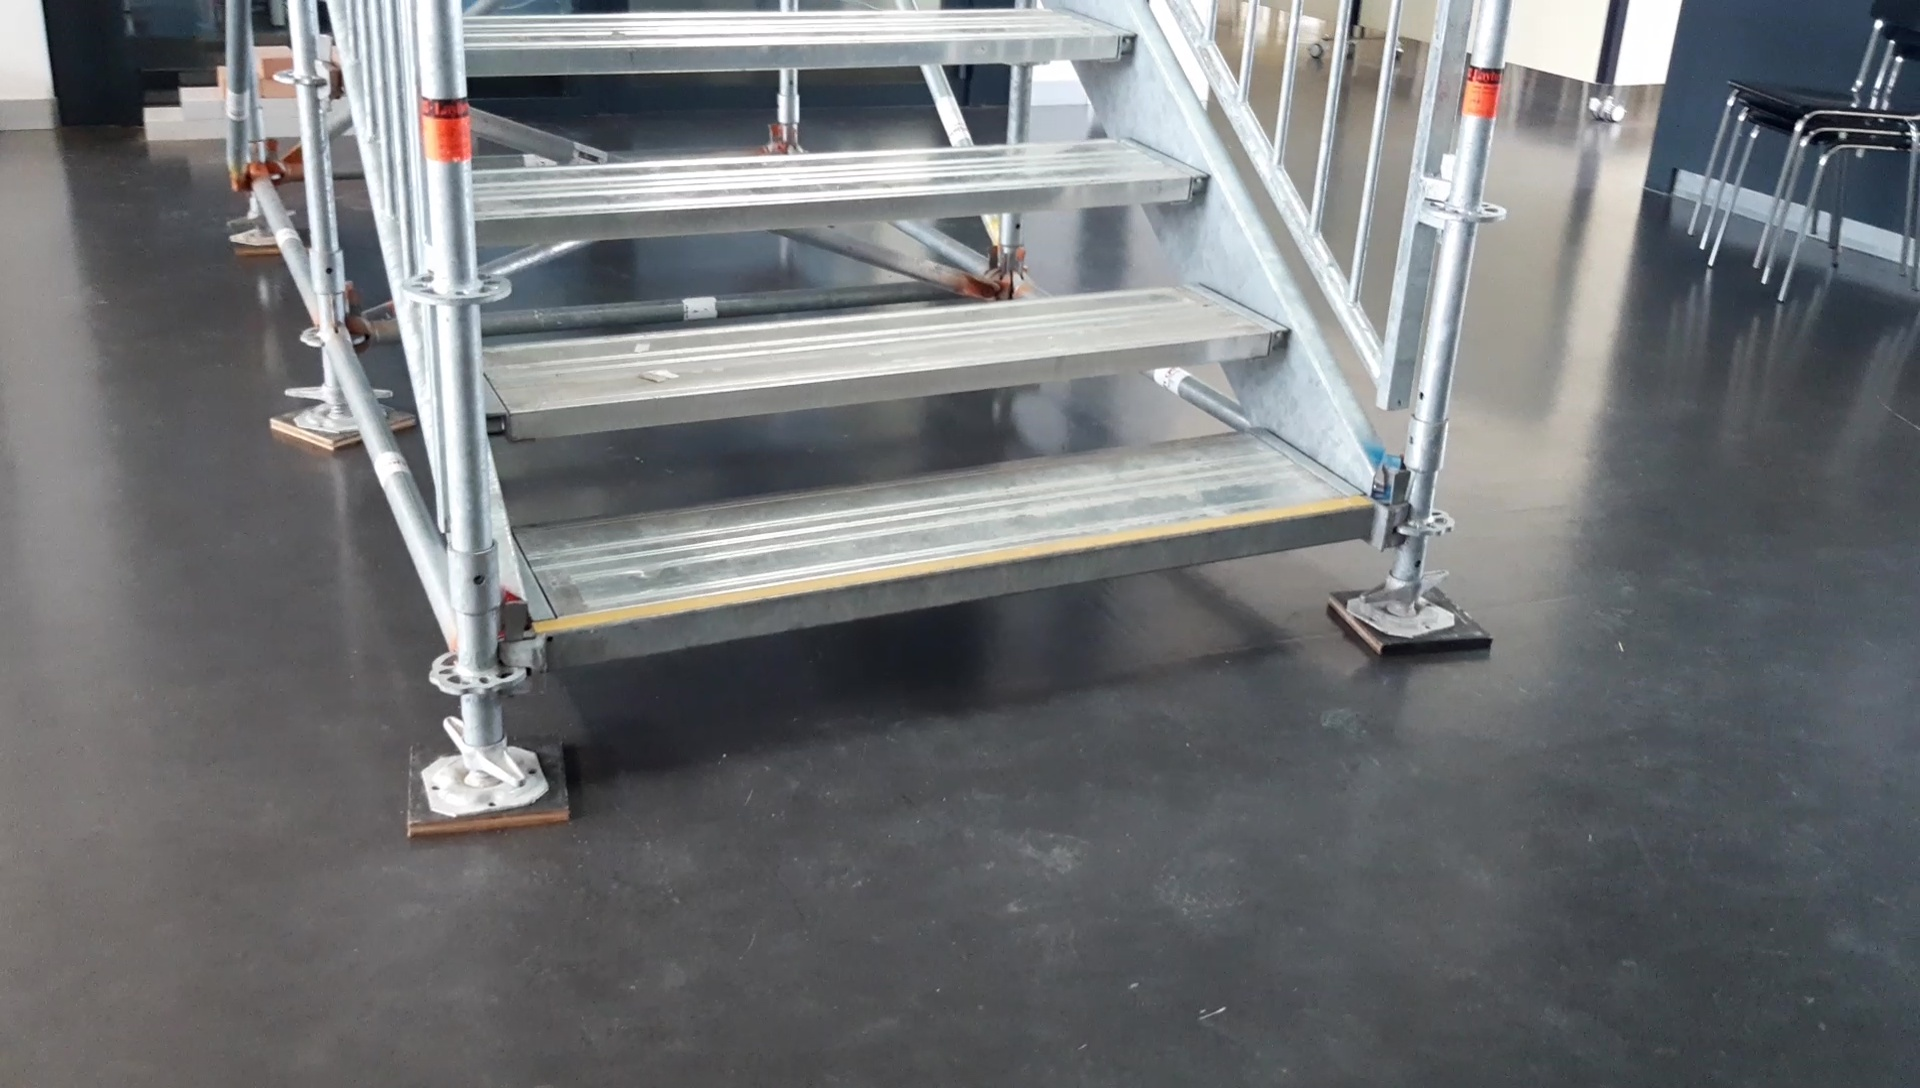edge: (550, 502, 1375, 662), (488, 327, 1292, 435), (469, 171, 1211, 243), (462, 30, 1138, 70)
stairs: (402, 3, 1490, 831)
